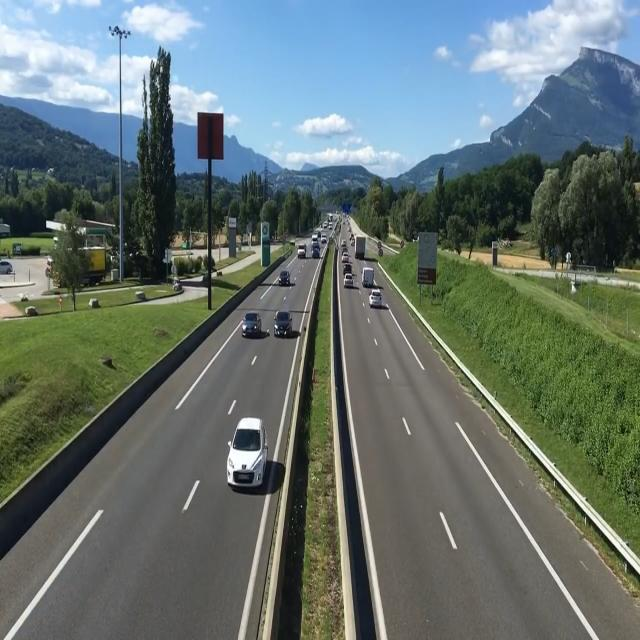car: (225, 413, 268, 493), (239, 309, 264, 341), (274, 302, 294, 338), (364, 283, 385, 312), (278, 266, 293, 293), (342, 269, 356, 294)
truck: (353, 230, 368, 262)
